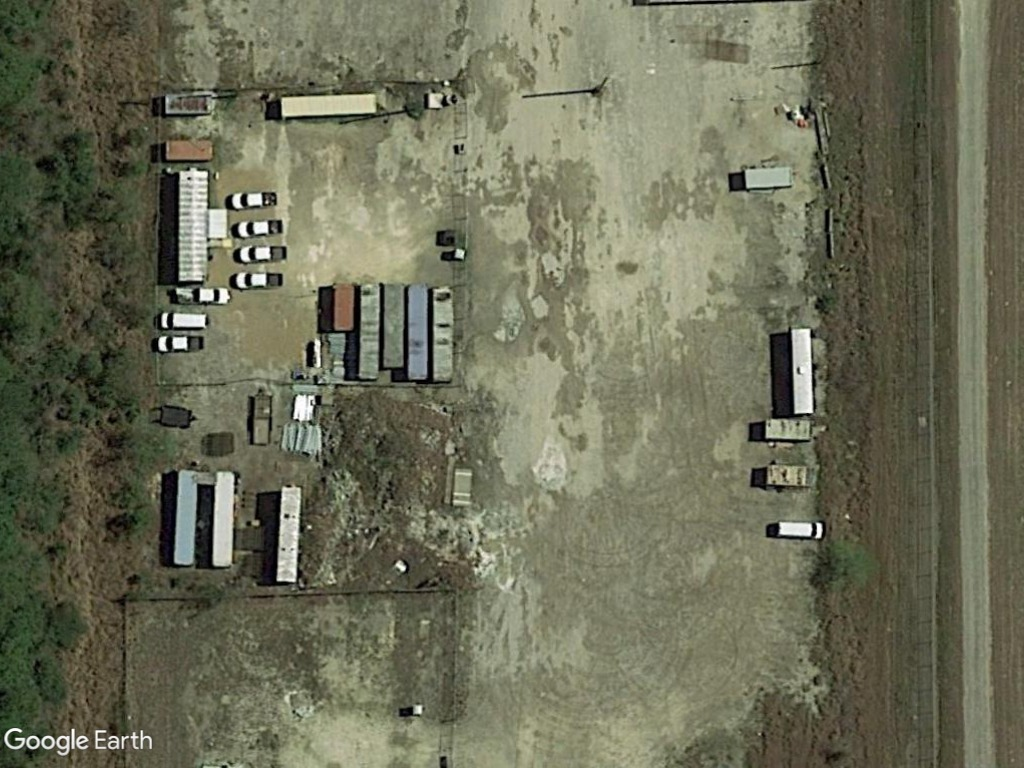other: (228, 184, 279, 217), (226, 267, 289, 292), (150, 333, 210, 357), (231, 216, 285, 242), (233, 243, 292, 266), (184, 284, 235, 308)
van: (773, 516, 828, 542), (156, 308, 216, 331)
